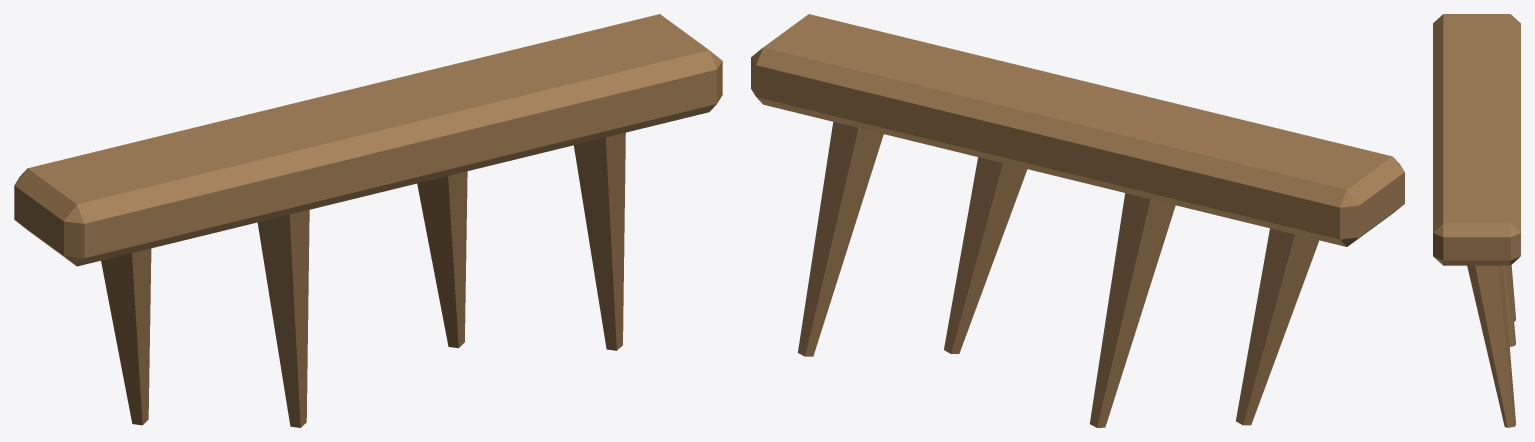
The model's file is beira_reta.glb.
3 views of the same model, side by side, from view 1: azimuth 30°, elevation 25°; view 2: azimuth 150°, elevation 25°; view 3: azimuth 270°, elevation 25° (orthographic). The views are drawn at different scales.
Visible parts, largest first — view 1: deserto_beira_reta; view 2: deserto_beira_reta; view 3: deserto_beira_reta.
Part boxes in pixels (bbox=[...]): deserto_beira_reta: bbox=[14, 14, 722, 427]; deserto_beira_reta: bbox=[751, 14, 1404, 427]; deserto_beira_reta: bbox=[1433, 14, 1520, 427].
Size of the model in its own units: 1 by 0.4671 by 0.17.
